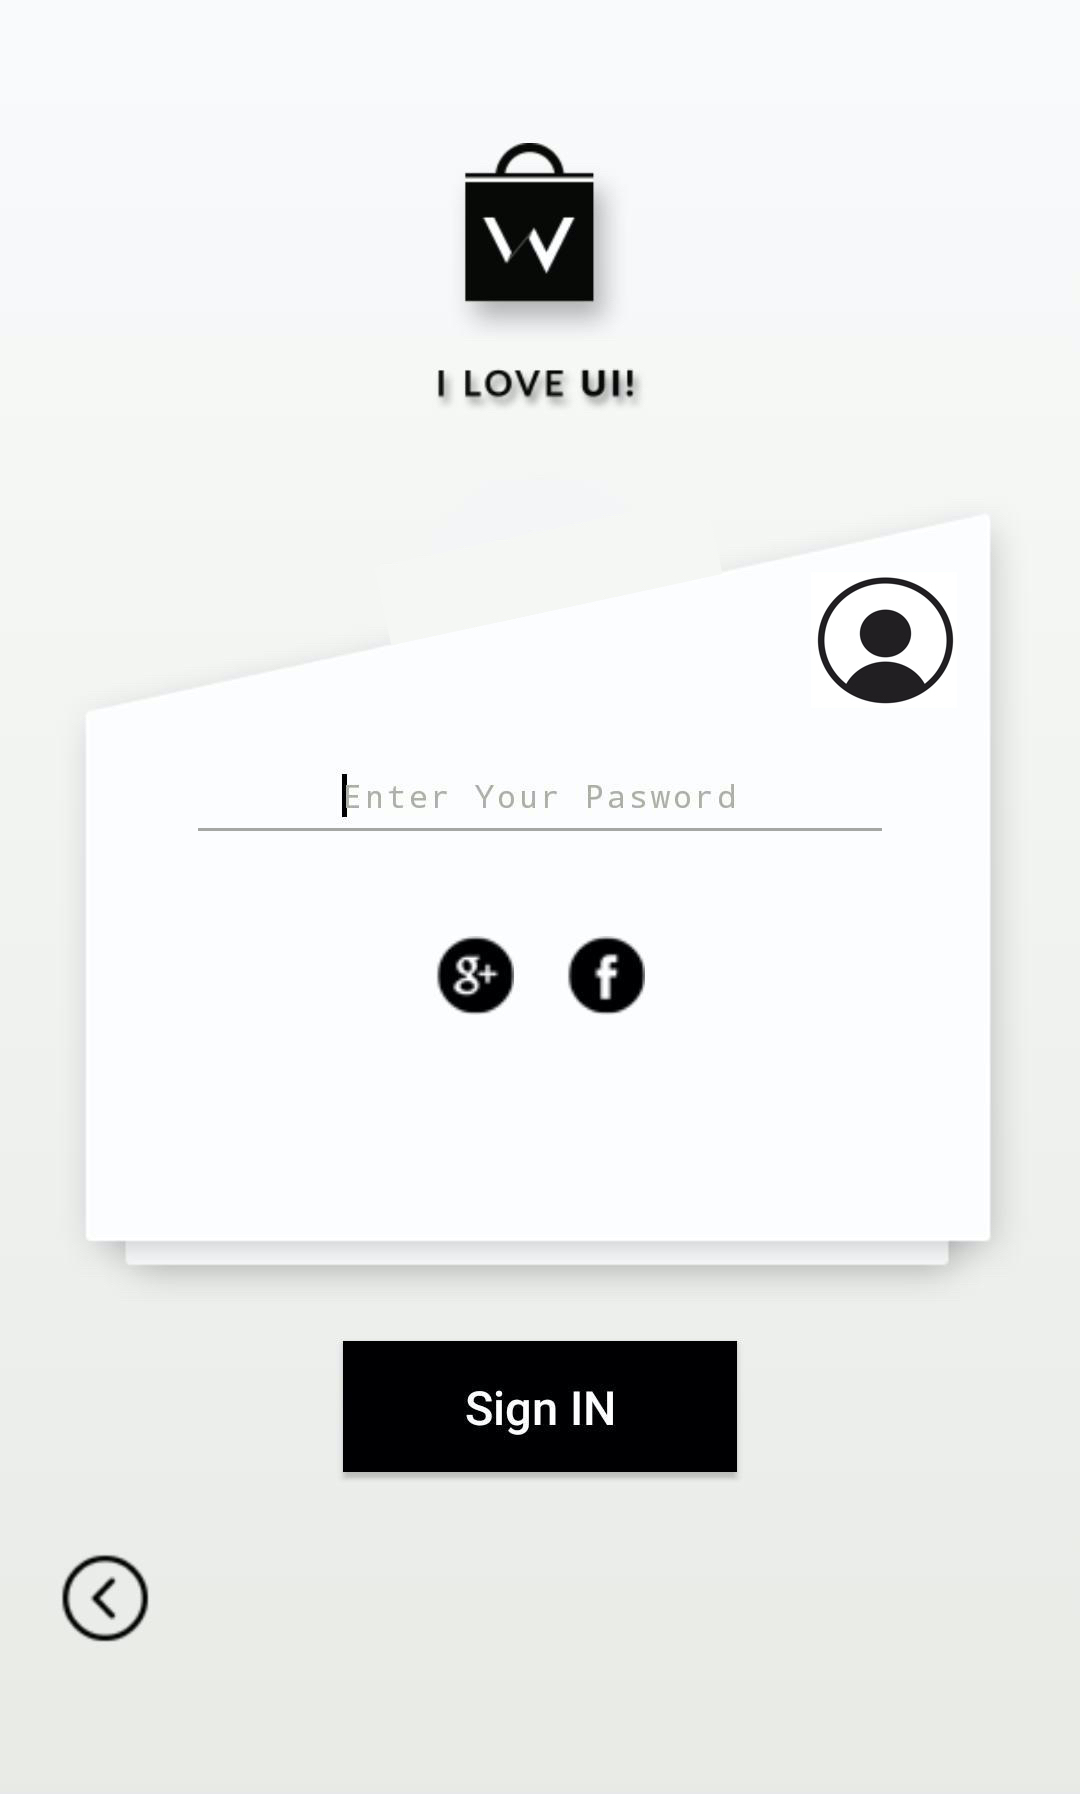EditText: (197, 774, 883, 832)
Icon: (817, 577, 954, 705), (61, 1554, 150, 1643), (437, 935, 515, 1015), (568, 935, 646, 1015)
Image: (464, 142, 594, 302)
Text: (438, 369, 635, 400)
TextButton: (343, 1340, 738, 1472)
